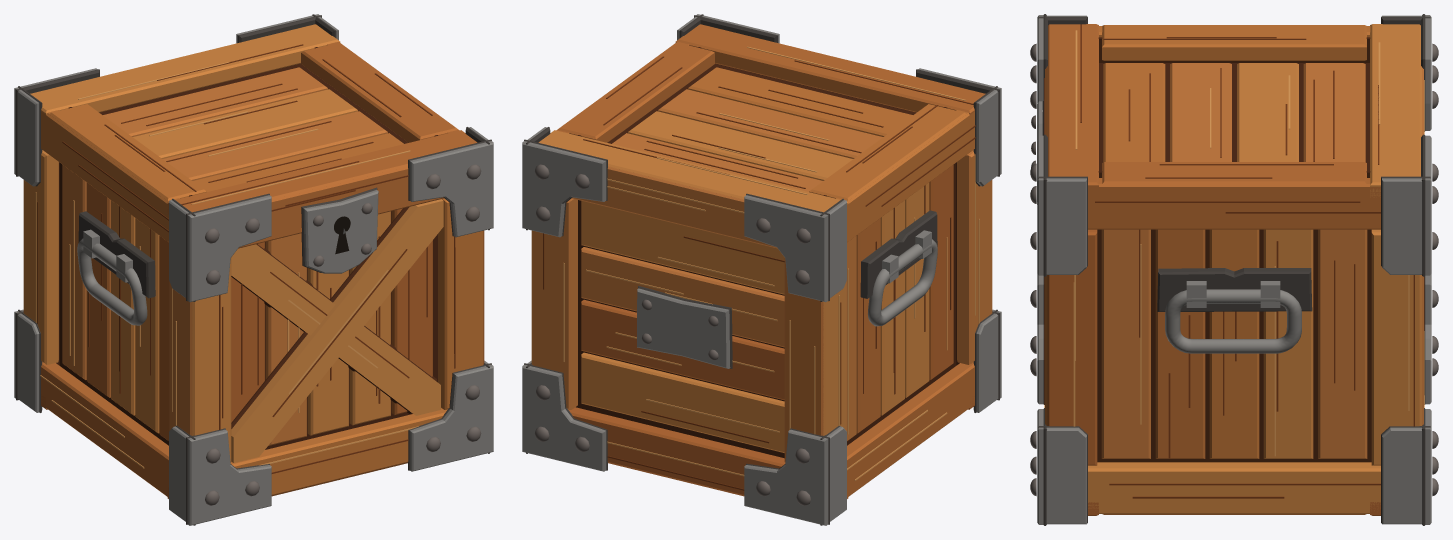
The model's file is 01-crate.glb.
3 views of the same model, side by side, from view 1: azimuth 30°, elevation 25°; view 2: azimuth 150°, elevation 25°; view 3: azimuth 270°, elevation 25° (orthographic). The views are drawn at different scales.
Visible parts, largest first — view 1: crate, object 19, object 14, object 24, object 9, object 2, object 70, object 77, object 75, object 67, object 71, object 73 (+2 smaller); view 2: crate, object 47, object 62, object 52, object 57, object 41, object 70, object 67, object 73, object 71, object 75, object 77 (+2 smaller); view 3: crate, object 29, object 32, object 35, object 33, object 39, object 37, object 9, object 24, object 52, object 57, object 14 (+7 smaller).
Part boxes in pixels (bbox=[...]): crate: bbox=[23, 24, 484, 498]; object 19: bbox=[187, 195, 271, 302]; object 14: bbox=[409, 364, 493, 471]; object 24: bbox=[187, 429, 271, 525]; object 9: bbox=[409, 141, 493, 237]; object 2: bbox=[303, 190, 378, 273]; object 70: bbox=[77, 238, 147, 325]; object 77: bbox=[15, 311, 39, 412]; object 75: bbox=[15, 90, 39, 186]; object 67: bbox=[78, 211, 155, 298]; object 71: bbox=[169, 200, 188, 299]; object 73: bbox=[169, 426, 191, 523]; crate: bbox=[531, 24, 992, 498]; object 47: bbox=[744, 195, 828, 302]; object 62: bbox=[522, 364, 606, 471]; object 52: bbox=[744, 429, 828, 525]; object 57: bbox=[522, 141, 606, 237]; object 41: bbox=[637, 288, 730, 368]; object 70: bbox=[868, 239, 937, 326]; object 67: bbox=[860, 210, 937, 298]; object 73: bbox=[976, 311, 999, 412]; object 71: bbox=[976, 90, 998, 186]; object 75: bbox=[824, 200, 846, 297]; object 77: bbox=[823, 426, 846, 521]; crate: bbox=[1044, 24, 1424, 515]; object 29: bbox=[1157, 268, 1312, 311]; object 32: bbox=[1165, 289, 1301, 353]; object 35: bbox=[1382, 427, 1429, 524]; object 33: bbox=[1382, 178, 1429, 274]; object 39: bbox=[1040, 427, 1086, 524]; object 37: bbox=[1039, 178, 1086, 274]; object 9: bbox=[1037, 135, 1043, 275]; object 24: bbox=[1037, 274, 1043, 404]; object 52: bbox=[1425, 274, 1431, 404]; object 57: bbox=[1425, 135, 1431, 275]; object 14: bbox=[1037, 409, 1043, 524].
Bounding box in the file's own units: 1.03 × 1 × 1.07.
